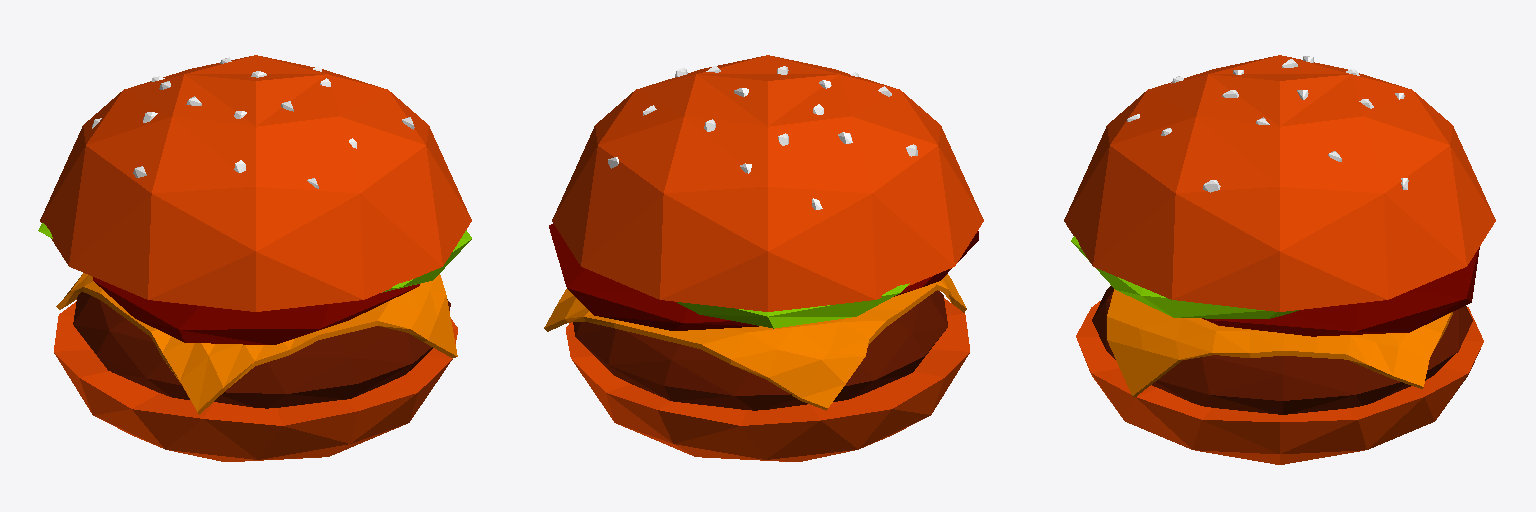
File: FoodAndDrink.obj
3 views of the same model, side by side, from view 1: azimuth 30°, elevation 25°; view 2: azimuth 150°, elevation 25°; view 3: azimuth 270°, elevation 25° (orthographic).
Visible parts, largest first — view 1: GeoSphere001, GeoSphere005, GeoSphere004, Box001, GeoSphere003, GeoSphere019, GeoSphere002; view 2: GeoSphere001, GeoSphere005, GeoSphere004, Box001, GeoSphere003, GeoSphere002, GeoSphere019; view 3: GeoSphere001, GeoSphere005, Box001, GeoSphere004, GeoSphere003, GeoSphere002, GeoSphere019.
Part boxes in pixels (x1,y1,x2,y2): GeoSphere001: (40,55,471,311); GeoSphere005: (54,301,457,461); GeoSphere004: (73,292,450,408); Box001: (56,273,457,414); GeoSphere003: (93,277,419,344); GeoSphere019: (92,57,414,188); GeoSphere002: (38,223,471,292); GeoSphere001: (552,55,983,311); GeoSphere005: (566,298,969,461); GeoSphere004: (573,290,947,410); Box001: (544,274,966,410); GeoSphere003: (549,223,978,330); GeoSphere002: (677,283,909,328); GeoSphere019: (608,57,917,209); GeoSphere001: (1064,55,1495,311); GeoSphere005: (1076,301,1483,464); Box001: (1107,289,1452,396); GeoSphere004: (1092,286,1472,414); GeoSphere003: (1202,247,1479,336); GeoSphere002: (1071,236,1298,318); GeoSphere019: (1127,56,1408,192).
Bounding box in the file's own units: 30.01 × 26.79 × 30.01.